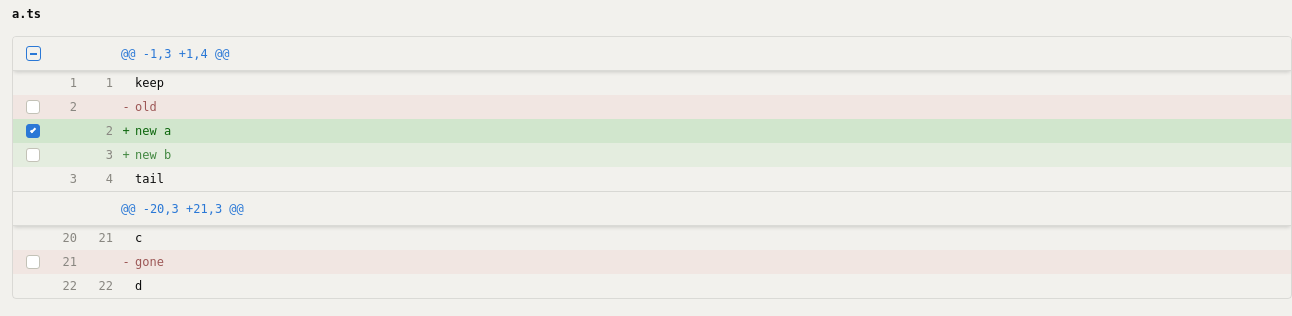
Test: DiffView combined (checkbox) mode › context menu (FR-478) › on a staged line offers Unstage and NO Discard
This screenshot has width=1292, height=316.
Right-click the checkbox labelled "2 + new a" at (652, 131), box [13,119,1291,143]
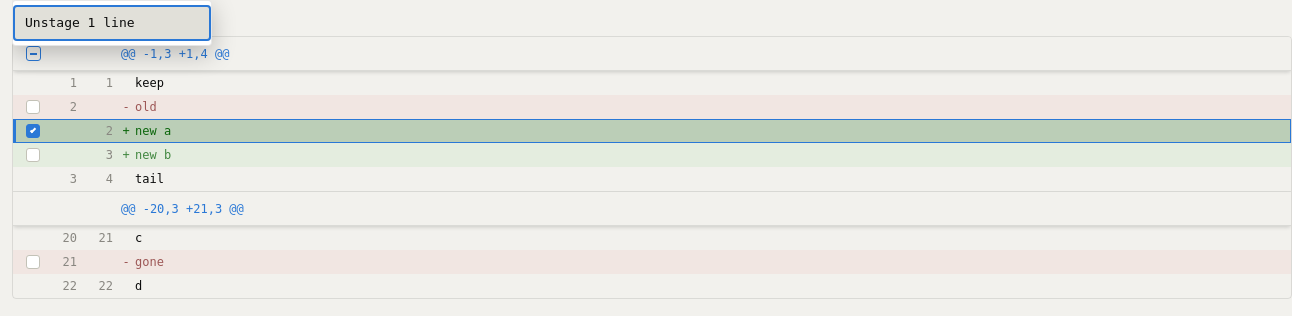
expect the menu item "Unstage 1 line" is shown: met, box [13,5,211,40]
